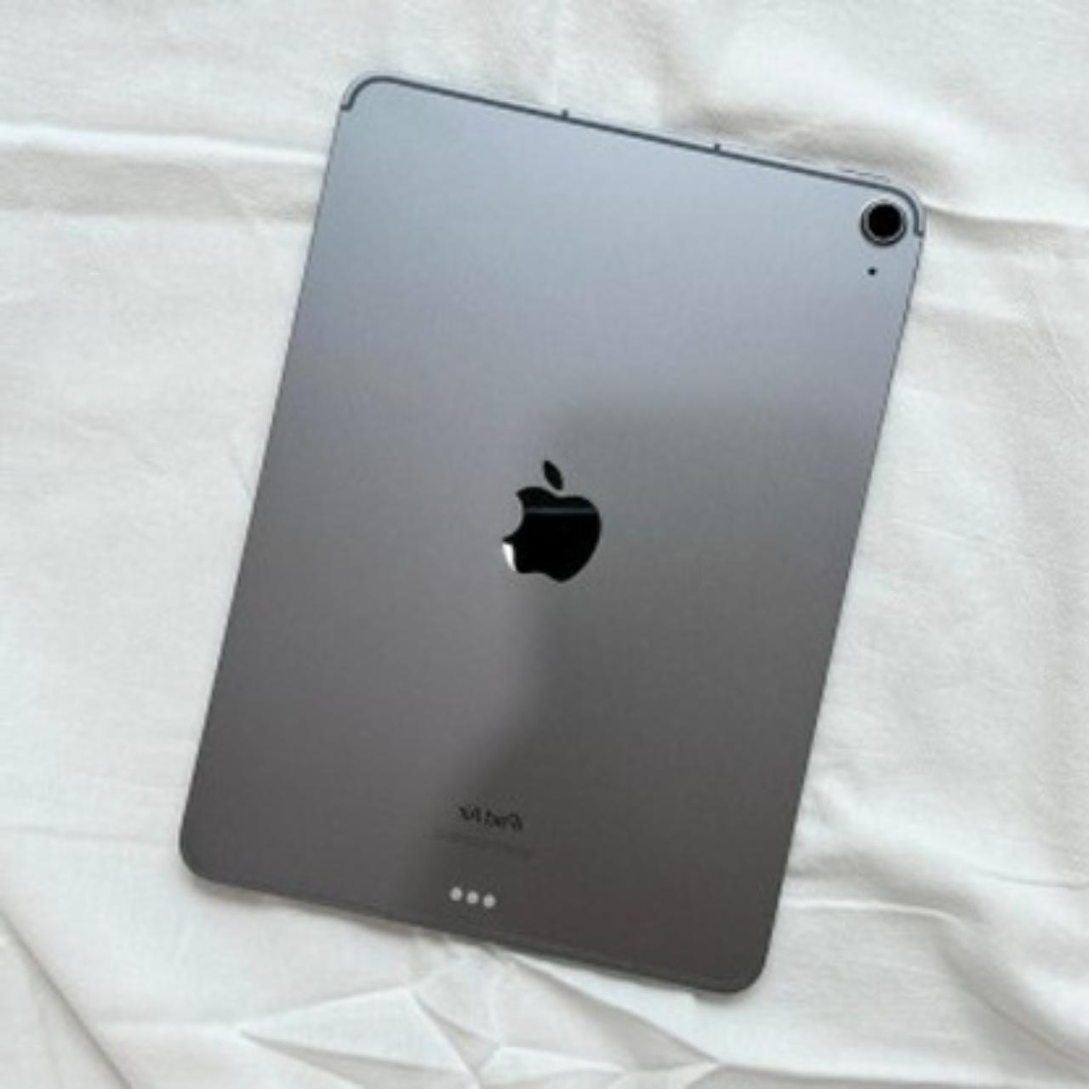Tablet_PC: (160, 71, 937, 1003)
